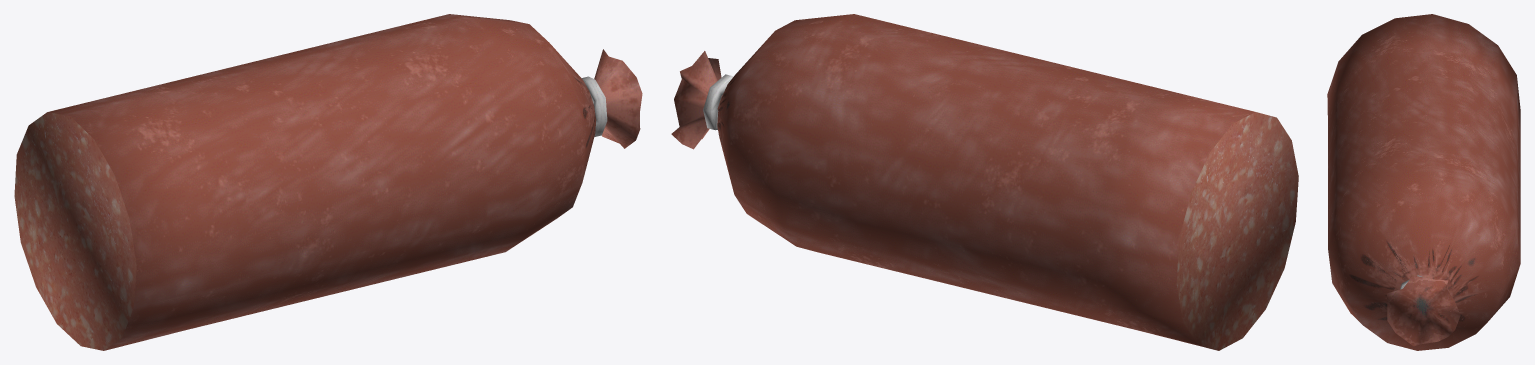
Rendered from Sausage-05.fbx.
The picture shows the model from 3 angles, left to right: view 1: azimuth 30°, elevation 25°; view 2: azimuth 150°, elevation 25°; view 3: azimuth 270°, elevation 25°; orthographic projection. The views are drawn at different scales.
Visible parts, largest first — view 1: Sausage.R; view 2: Sausage.R; view 3: Sausage.R.
Boxes of the visible parts, left/top/right/bottom form: Sausage.R: left=14, top=14, right=642, bottom=350; Sausage.R: left=671, top=14, right=1298, bottom=350; Sausage.R: left=1327, top=14, right=1520, bottom=350.
Size of the model in its own units: 49.64 by 19.26 by 19.2.
1 material, 1 textured.
